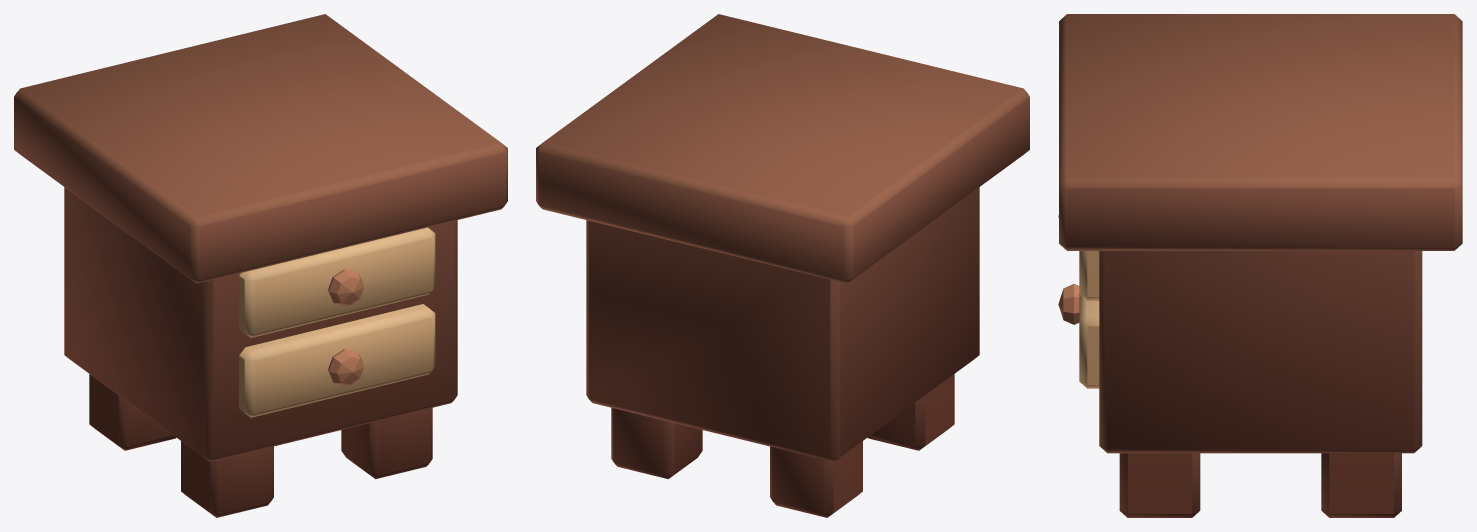
The model's file is cabinet-small.glb.
3 renders of one model, left to right at view 1: azimuth 30°, elevation 25°; view 2: azimuth 150°, elevation 25°; view 3: azimuth 270°, elevation 25°, orthographic. The views are drawn at different scales.
Visible parts, largest first — view 1: cabinet_small; view 2: cabinet_small; view 3: cabinet_small.
Part boxes in pixels (x1,y1,x2,y2): cabinet_small: [14, 14, 507, 517]; cabinet_small: [536, 14, 1029, 517]; cabinet_small: [1058, 14, 1462, 517].
Bounding box in the file's own units: 1 × 1 × 1.
